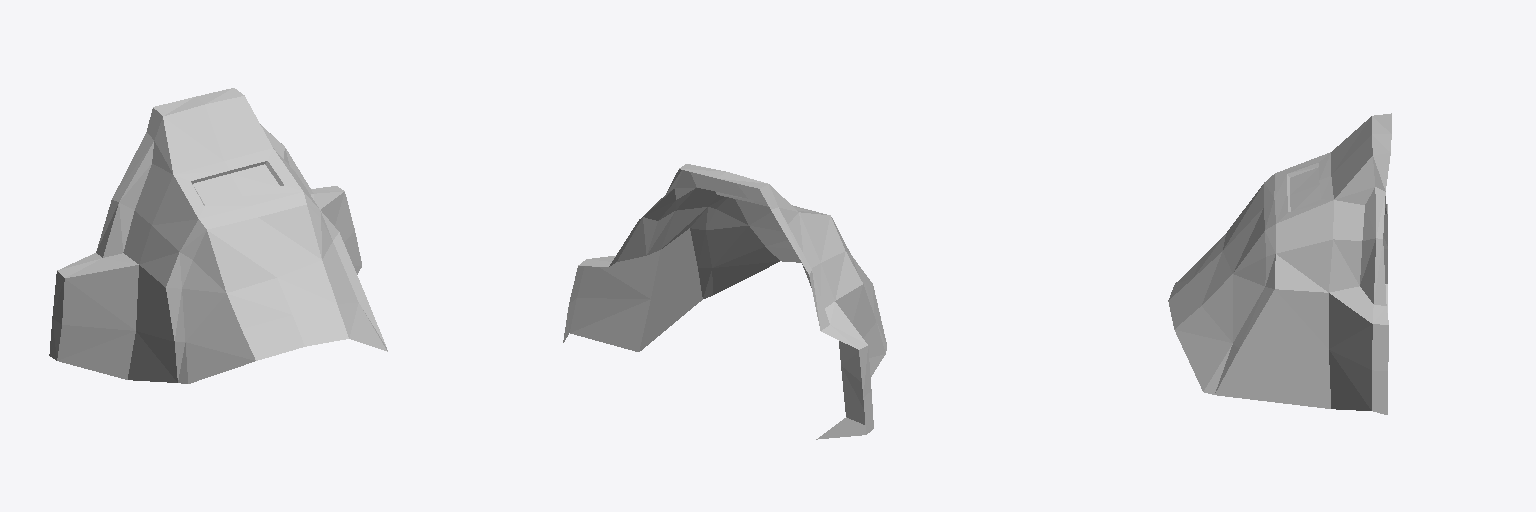
Rendered from X02RightPawFront.obj.
3 renders of one model, left to right at view 1: azimuth 30°, elevation 25°; view 2: azimuth 150°, elevation 25°; view 3: azimuth 270°, elevation 25°, orthographic.
Parts seen in each view (by area): view 1: CPA.001; view 2: CPA.001; view 3: CPA.001.
Part boxes in pixels (bbox=[...]): CPA.001: bbox=[49, 88, 387, 383]; CPA.001: bbox=[563, 164, 886, 439]; CPA.001: bbox=[1168, 113, 1391, 414].
Size of the model in its own units: 25.5 by 19.1 by 16.19.